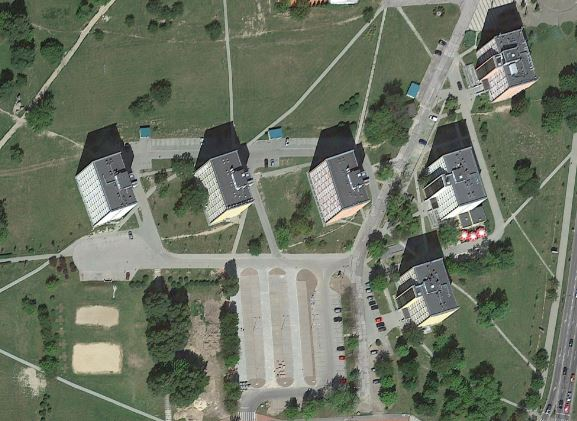block of flats: (191, 142, 259, 230), (420, 145, 488, 233), (73, 146, 138, 233), (391, 255, 463, 333), (473, 25, 545, 103), (305, 148, 374, 229)
